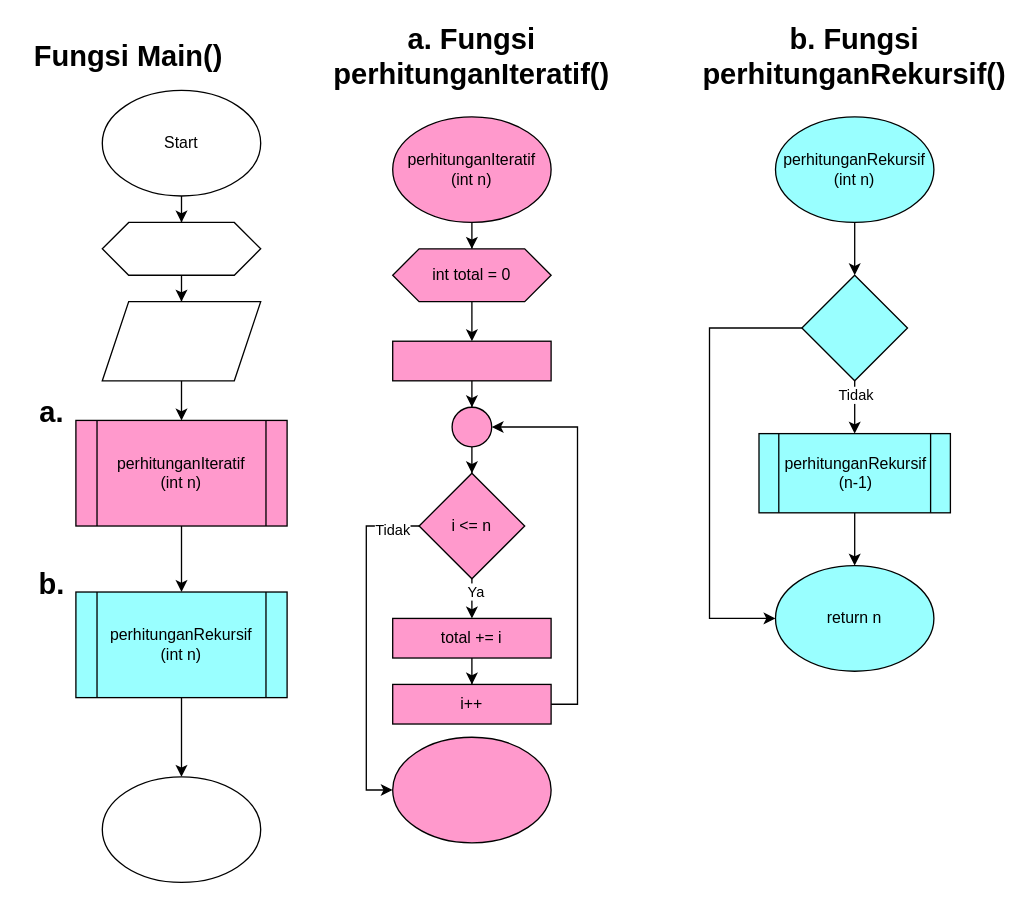
Some shapes in this 1028 by 906 pixel diagram are drawn without their labels. Here are the shapes that lost their labels. From the top down, the centre of each, then its label:
pixel 181 248: int n = 0
pixel 181 340: input n
pixel 854 327: n == 1
pixel 471 360: int i = 1
pixel 471 789: return total
pixel 181 829: End
